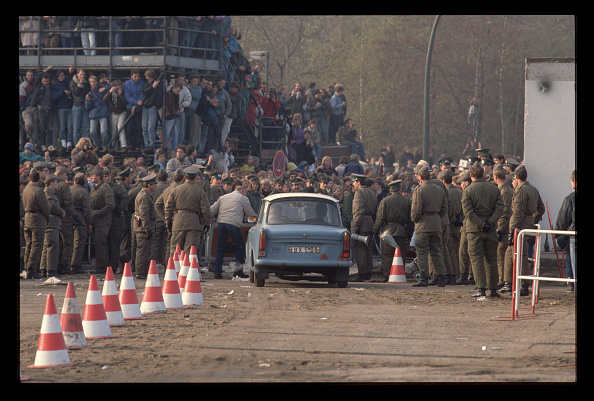trafficcone: (25, 293, 78, 370), (83, 276, 118, 339), (59, 282, 89, 351), (101, 267, 128, 327), (119, 263, 147, 320), (140, 260, 169, 315), (162, 256, 184, 309), (181, 256, 204, 306), (388, 247, 407, 284)
